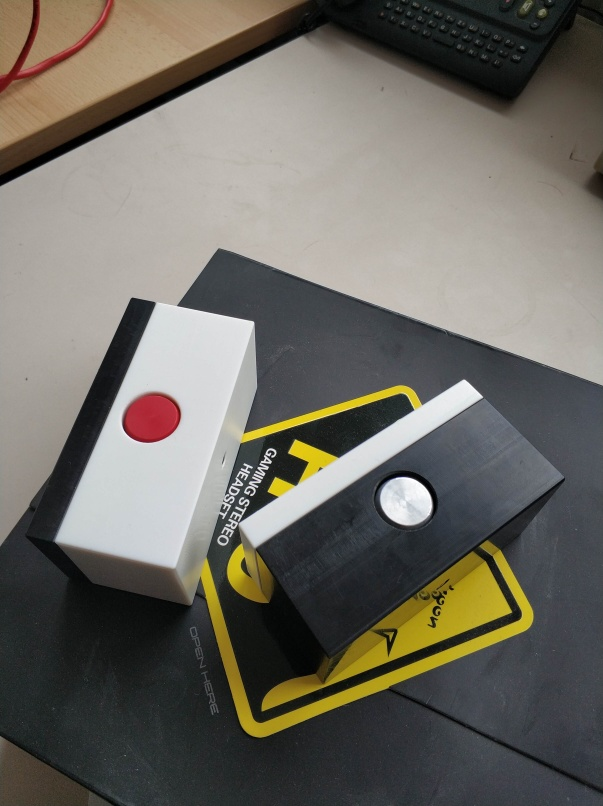black+white+red: (26, 296, 259, 608)
white+black+silver: (233, 377, 569, 689)
